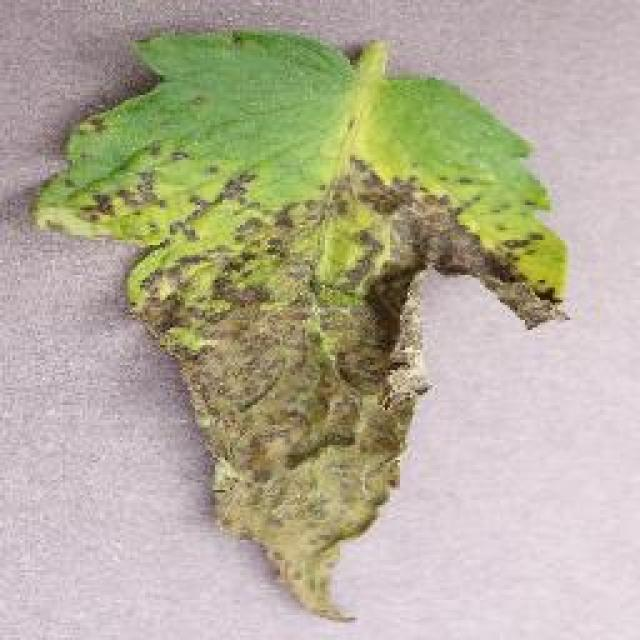Tomato___Septoria_leaf_spot: (35, 32, 565, 618)
